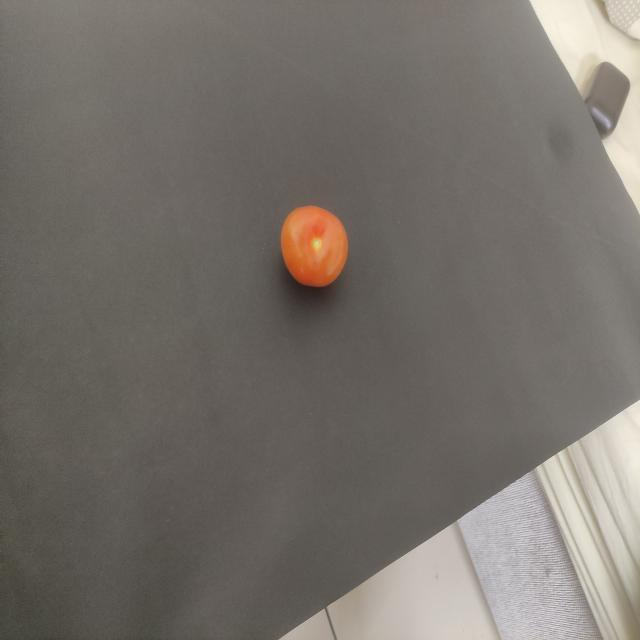sari: (280, 190, 362, 311)
